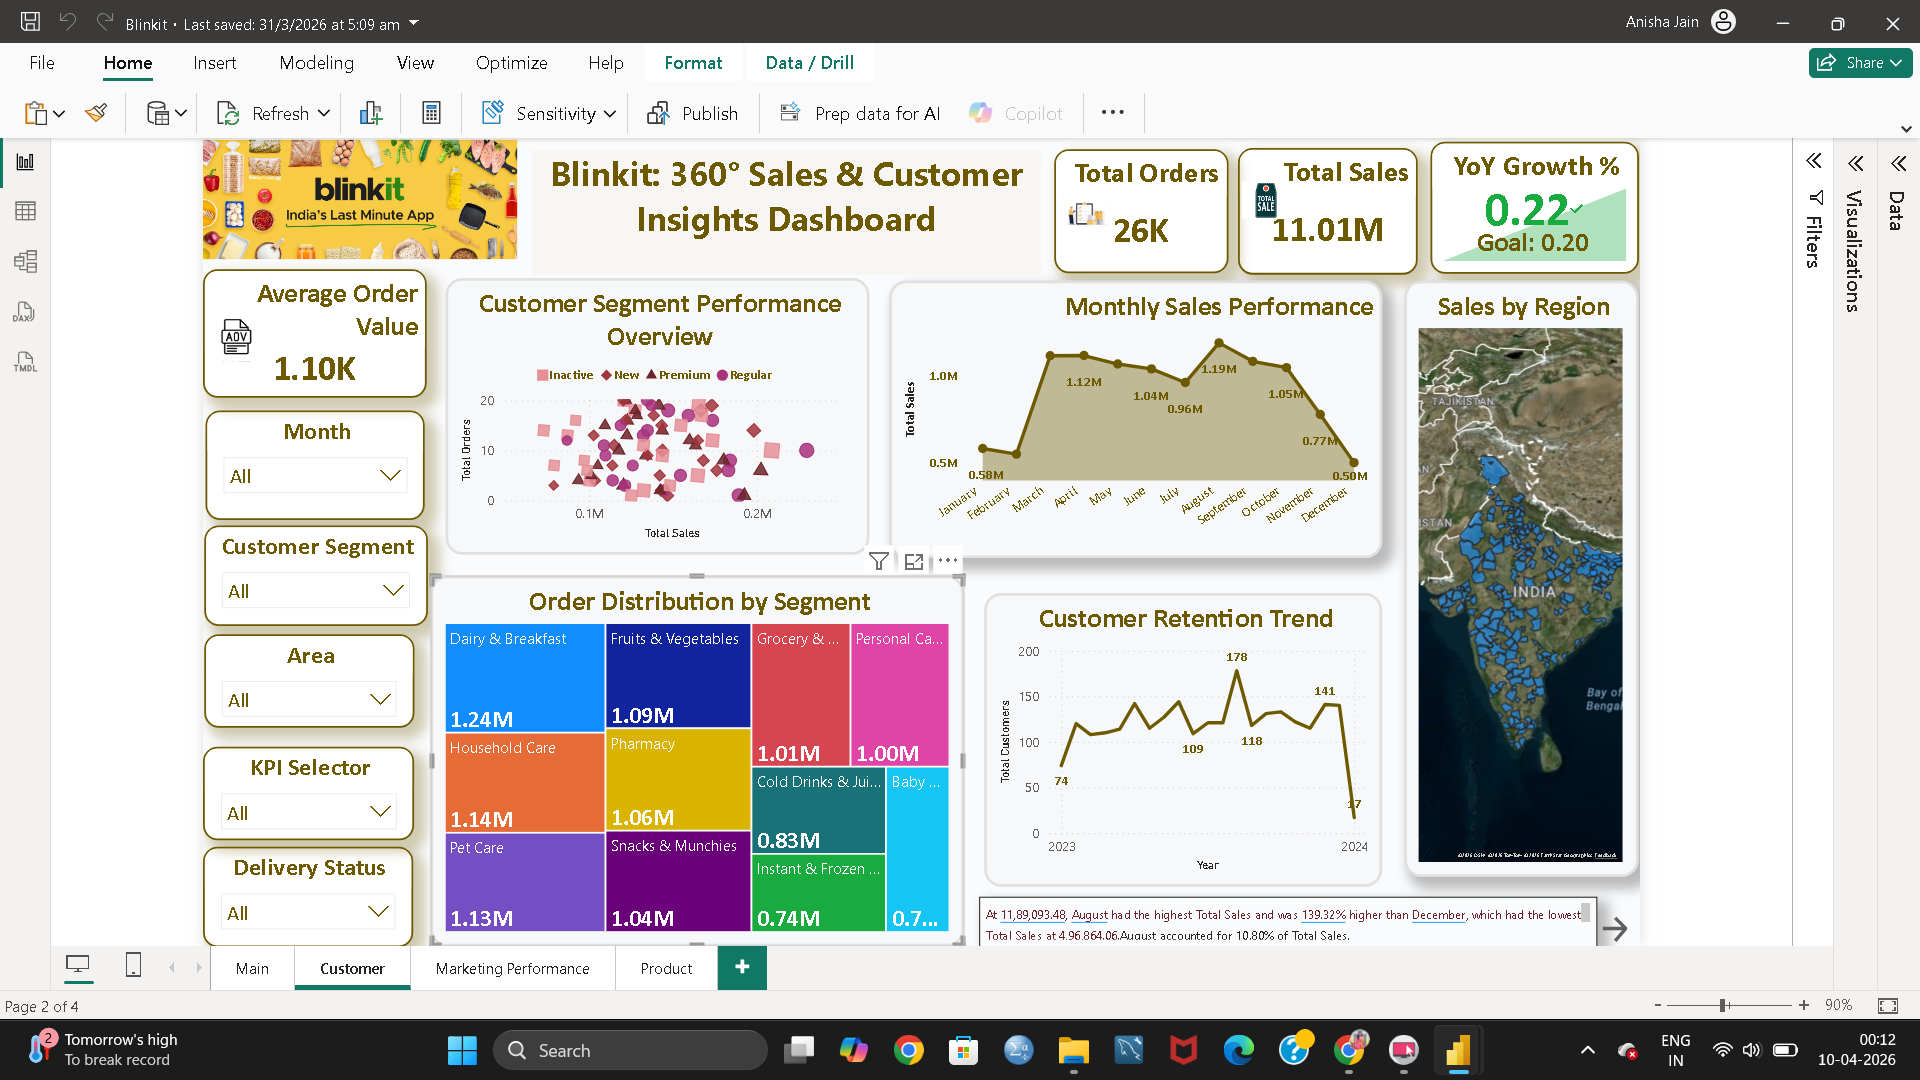

This screenshot's page, from the dashboard's own definition file:
{"tool":"powerbi","page":{"name":"Customer","canvas":[1280,720],"ordinal":1},"visuals":[{"type":"image","box":[0,0,279.9,109.8],"z":0},{"type":"cardVisual","title":"Total Sales","fields":{"Data":["DAX.Total Sales"]},"box":[921.8,9,160.3,112.8],"z":1000},{"type":"cardVisual","title":"Total Orders","fields":{"Data":["DAX.Total Orders"]},"box":[757.7,10.3,155.1,110.3],"z":2000},{"type":"kpi","title":"YoY Growth %","fields":{"Indicator":["DAX.YoY Growth %"],"Goal":["DAX.YoY Target %"],"TrendLine":["Calendar.Year"]},"box":[1093.6,3.8,185.9,117.9],"z":3000},{"type":"slicer","title":"Month","fields":{"Values":["Calendar.Month"]},"box":[2.4,242.5,195.4,97.7],"z":4000},{"type":"slicer","title":"Customer Segment","fields":{"Values":["Customers.Customer Segment"]},"box":[1.2,345,199.1,89.3],"z":5000},{"type":"treemap","title":"Order Distribution by Segment","fields":{"Group":["Product.Category"],"Values":["DAX.Total Sales"]},"box":[202.7,389.7,475.3,330.6],"z":6000},{"type":"slicer","title":"Area","fields":{"Values":["Customers.Area"]},"box":[1.2,441.6,187,83.2],"z":7000},{"type":"slicer","title":"Delivery  Status","fields":{"Values":["Orders.Delivery Status"]},"box":[0,631,187,89.3],"z":8000},{"type":"slicer","title":"KPI Selector","fields":{"Values":["KPI Selector.KPI Selector"]},"box":[0,541.7,188.2,83.2],"z":9000},{"type":"areaChart","title":"Monthly Sales Performance","fields":{"Y":["DAX.Total Sales"],"Category":["Calendar.Month"]},"box":[611.7,126.7,439.1,247.3],"z":10000},{"type":"lineChart","title":"Customer Retention Trend","fields":{"Category":["Calendar.Date.Variation.Date Hierarchy.Year","Calendar.Date.Variation.Date Hierarchy.Quarter","Calendar.Date.Variation.Date Hierarchy.Month"],"Y":["DAX.Total Customers"]},"box":[696.1,405.4,354.7,261.8],"z":11000},{"type":"textbox","title":"Blinkit: 360° Sales & Customer Insights Dashboard","box":[292.3,11.5,453.8,110.3],"z":12000},{"type":"cardVisual","title":"Average Order Value","fields":{"Data":["DAX.Avg Order Value"]},"box":[0,117,199.1,114.6],"z":13000},{"type":"textbox","box":[691.3,675.6,550.1,44.6],"z":14000},{"type":"scatterChart","title":"Customer Segment Performance Overview","fields":{"X":["DAX.Total Sales"],"Y":["Customers.Total Orders"],"Size":["CountNonNull(Customers.Customer ID)"],"Series":["Customers.Customer Segment"]},"box":[216,124.3,377.6,246.1],"z":15000},{"type":"image","box":[9.3,157,41.9,43],"z":16000},{"type":"image","box":[925.3,37.3,43.4,34.9],"z":17000},{"type":"image","box":[767.4,48.8,39.5,33.7],"z":18000},{"type":"actionButton","box":[1241.4,688.9,38.6,31.4],"z":19000},{"type":"azureMap","title":"Sales by Region","fields":{"Category":["Customers.Map Location"]},"box":[1069.9,126.5,208.4,531.3],"z":20000}]}

Visuals, with their boxes on the page's 1280x720 design canvas (x1, y1, x2, y2). These are canvas units, not pixel positions in the 1920x1080 screenshot, which may show the page scaled, cropped or inside an application window:
image: region(0, 0, 280, 110)
"Total Sales" cardVisual: region(922, 9, 1082, 122)
"Total Orders" cardVisual: region(758, 10, 913, 121)
"YoY Growth %" kpi: region(1094, 4, 1280, 122)
"Month" slicer: region(2, 242, 198, 340)
"Customer Segment" slicer: region(1, 345, 200, 434)
"Order Distribution by Segment" treemap: region(203, 390, 678, 720)
"Area" slicer: region(1, 442, 188, 525)
"Delivery  Status" slicer: region(0, 631, 187, 720)
"KPI Selector" slicer: region(0, 542, 188, 625)
"Monthly Sales Performance" areaChart: region(612, 127, 1051, 374)
"Customer Retention Trend" lineChart: region(696, 405, 1051, 667)
"Blinkit: 360° Sales & Customer Insights Dashboard" textbox: region(292, 12, 746, 122)
"Average Order Value" cardVisual: region(0, 117, 199, 232)
textbox: region(691, 676, 1241, 720)
"Customer Segment Performance Overview" scatterChart: region(216, 124, 594, 370)
image: region(9, 157, 51, 200)
image: region(925, 37, 969, 72)
image: region(767, 49, 807, 82)
actionButton: region(1241, 689, 1280, 720)
"Sales by Region" azureMap: region(1070, 126, 1278, 658)
